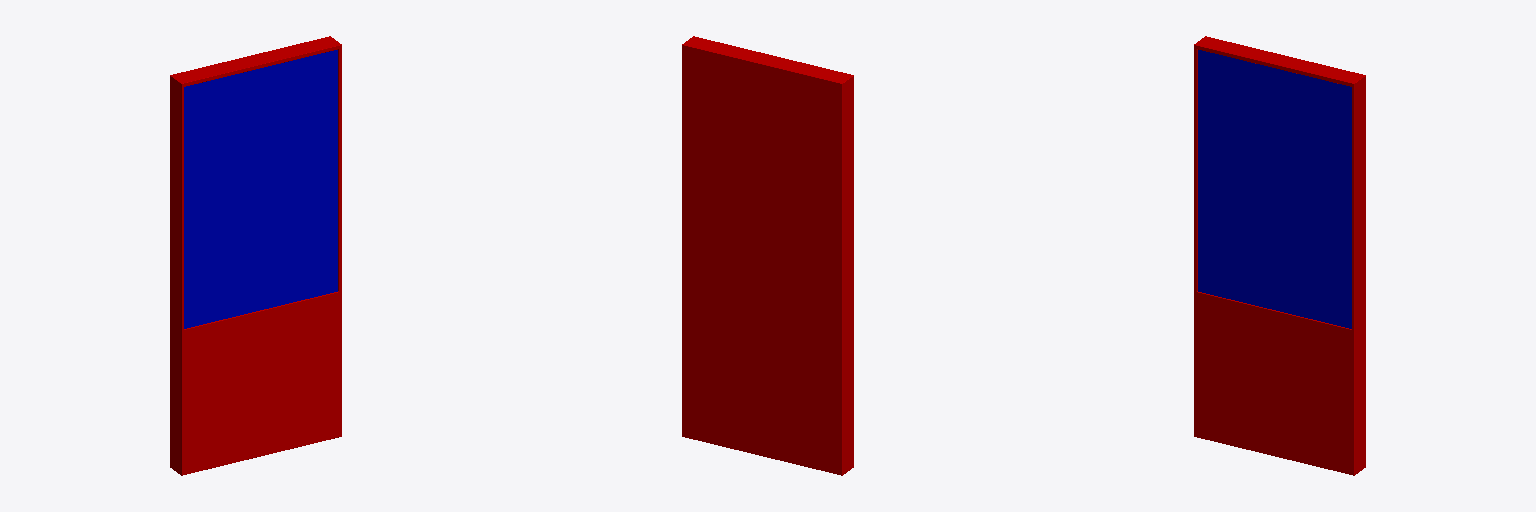
The model's file is Pylon M.obj.
3 renders of one model, left to right at view 1: azimuth 30°, elevation 25°; view 2: azimuth 150°, elevation 25°; view 3: azimuth 330°, elevation 25°, orthographic.
Parts seen in each view (by area): view 1: display, Cube.1-Cube; view 2: Cube.1-Cube; view 3: display, Cube.1-Cube.
Boxes of the visible parts, x1=… form: display: x1=184, y1=50, x2=337, y2=328; Cube.1-Cube: x1=170, y1=36, x2=341, y2=475; Cube.1-Cube: x1=682, y1=36, x2=853, y2=475; display: x1=1198, y1=50, x2=1351, y2=328; Cube.1-Cube: x1=1194, y1=36, x2=1365, y2=475.
Size of the model in its own units: 133 by 310 by 17.